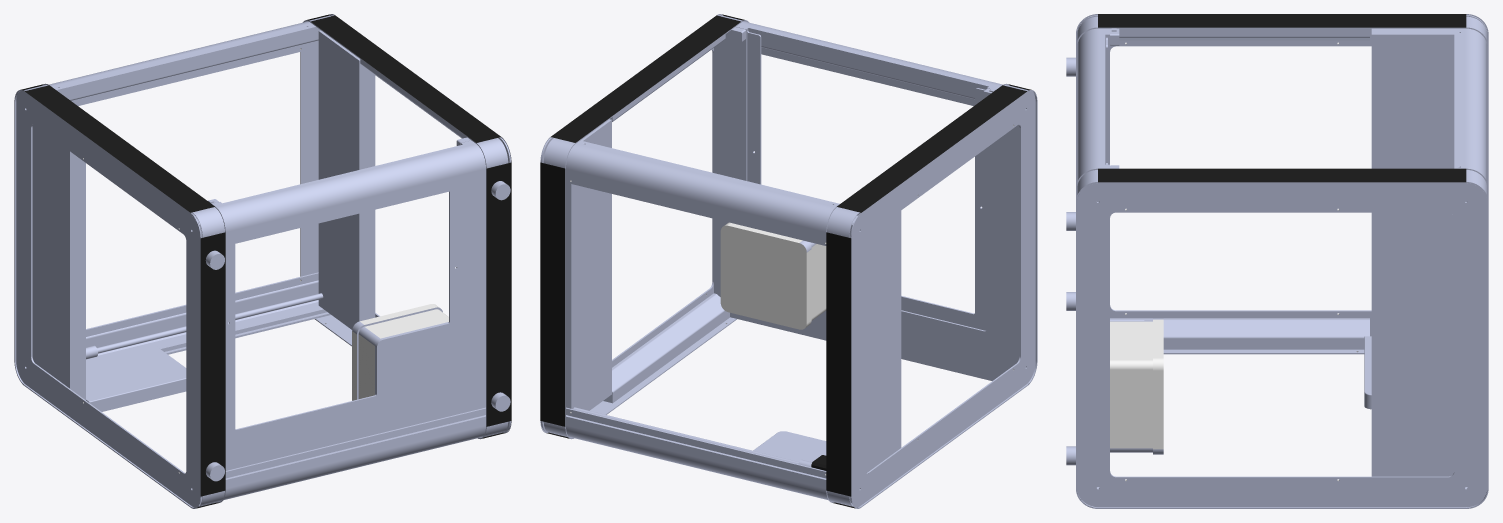
3 views of the same model, side by side, from view 1: azimuth 30°, elevation 25°; view 2: azimuth 150°, elevation 25°; view 3: azimuth 270°, elevation 25° (orthographic). The views are drawn at different scales.
Parts seen in each view (by area): view 1: bare frame.IGS (×37); view 2: bare frame.IGS (×36); view 3: bare frame.IGS (×27).
Boxes of the visible parts, x1,y1,x2,y2 form: bare frame.IGS (×37): [14, 15, 511, 508]; bare frame.IGS (×36): [540, 15, 1037, 508]; bare frame.IGS (×27): [1076, 14, 1488, 508].
Bounding box in the file's own units: 0.6243 × 0.5652 × 0.662.
